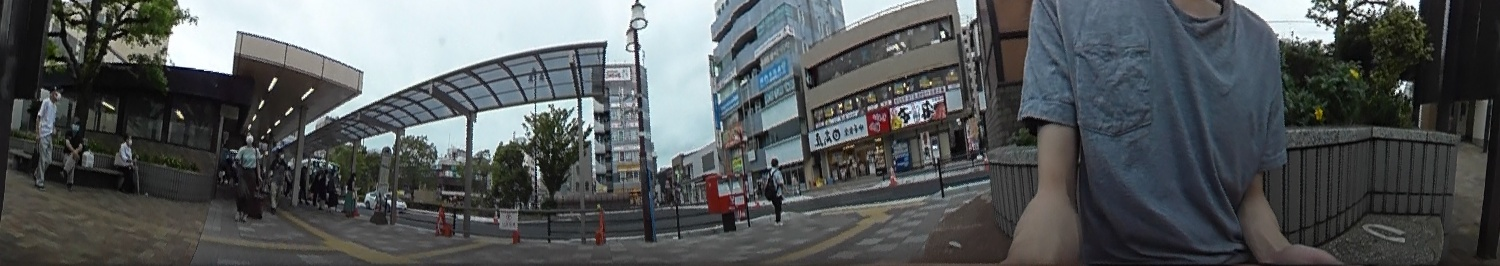difficult_person: (270, 149, 285, 214), (343, 172, 357, 214), (328, 166, 340, 209), (301, 164, 310, 210), (224, 152, 234, 184)
person: (30, 82, 59, 190), (235, 131, 260, 222), (113, 133, 144, 195), (762, 157, 786, 226), (61, 118, 87, 179)
